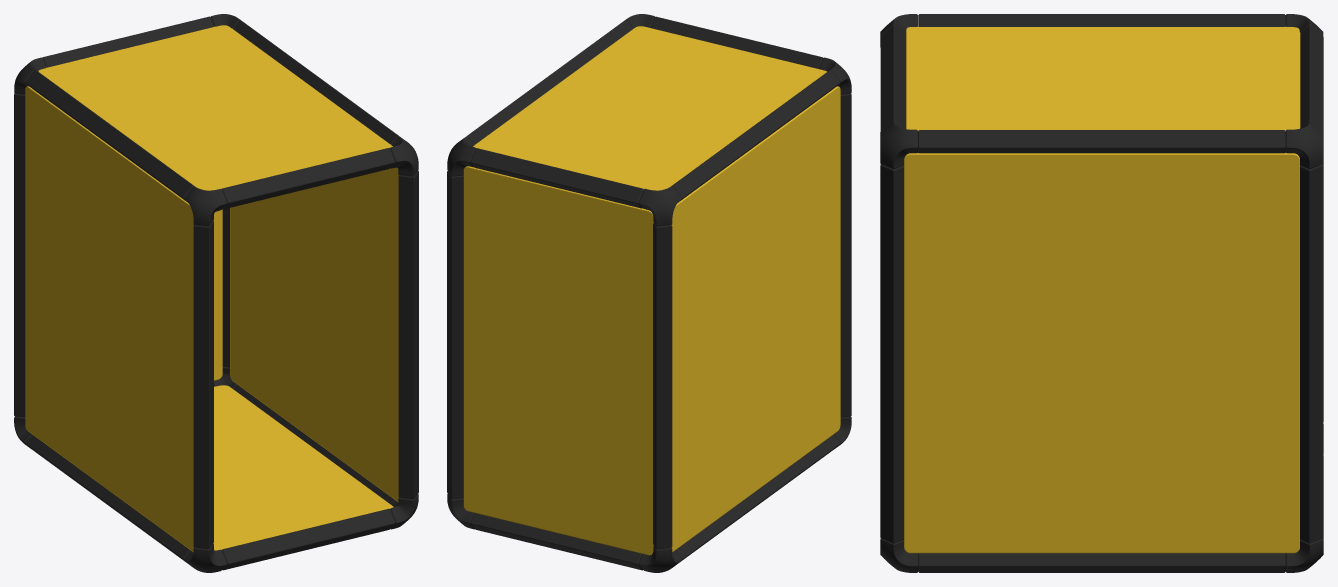
3 renders of one model, left to right at view 1: azimuth 30°, elevation 25°; view 2: azimuth 150°, elevation 25°; view 3: azimuth 270°, elevation 25°, orthographic. The views are drawn at different scales.
Parts seen in each view (by area): view 1: 229x374x420; view 2: 229x374x420; view 3: 229x374x420.
Part boxes in pixels (bbox=[...]): 229x374x420: bbox=[14, 14, 418, 572]; 229x374x420: bbox=[447, 14, 851, 572]; 229x374x420: bbox=[880, 14, 1323, 572].
Size of the model in its own units: 0.3067 by 0.4976 by 0.4513.
